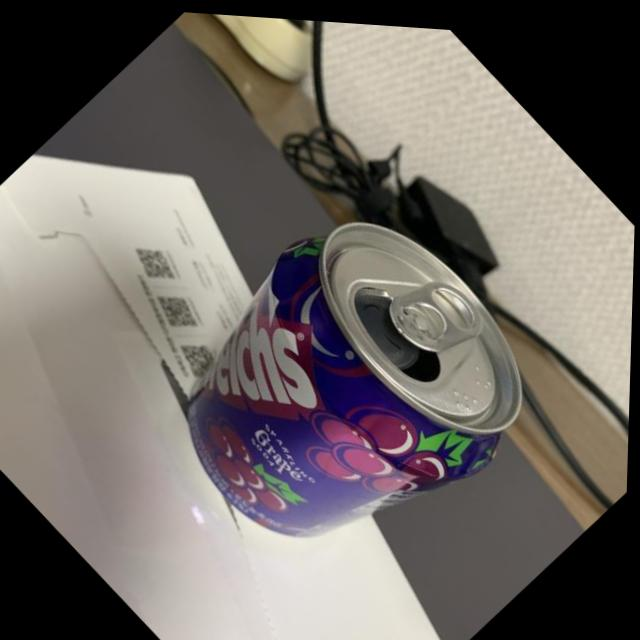metal: (189, 224, 519, 535)
